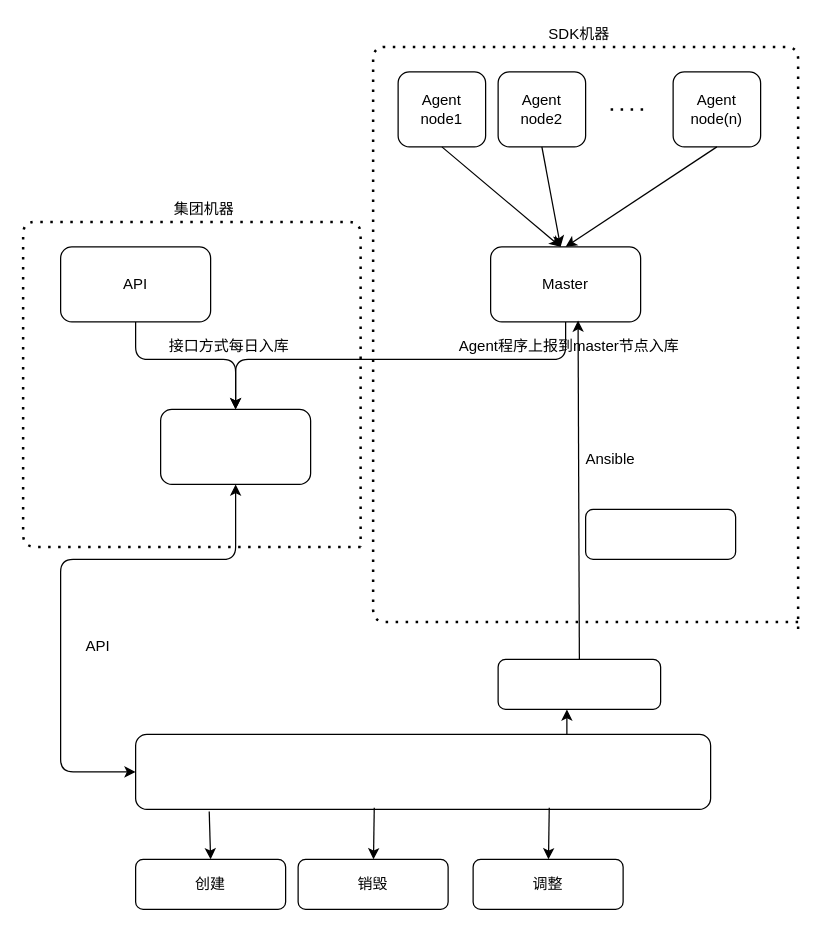
This 821x931 diagram has some shape labels left out. Here are the shapes that lost their labels. From the top down, the centre of each, then its label:
the point at 235,446: MYSQL
the point at 660,533: 初始化
the point at 579,683: 读写操作
the point at 422,771: WEB-API层
